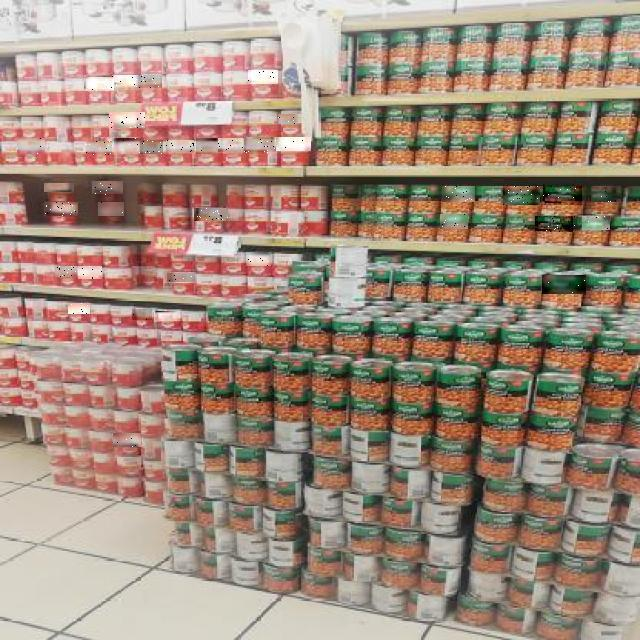Beans: (542, 275, 586, 294), (543, 186, 582, 205), (503, 186, 540, 205), (536, 216, 576, 232), (109, 112, 145, 128), (442, 186, 475, 202), (244, 138, 276, 154), (275, 137, 311, 151), (84, 75, 114, 91), (114, 138, 144, 154), (44, 202, 78, 216), (218, 139, 251, 153), (17, 138, 45, 154), (592, 186, 620, 202), (194, 208, 228, 221), (92, 182, 123, 196), (248, 70, 278, 84), (441, 214, 469, 229), (113, 433, 141, 447), (110, 76, 138, 90), (582, 216, 610, 230), (136, 76, 162, 90), (86, 142, 112, 156), (99, 202, 125, 216), (196, 138, 218, 154), (246, 252, 271, 266), (80, 360, 109, 372), (166, 140, 194, 152), (140, 140, 163, 154), (78, 266, 102, 279), (154, 310, 180, 322), (44, 183, 74, 192), (167, 273, 195, 282), (55, 266, 77, 277), (68, 303, 90, 314), (278, 114, 300, 124), (133, 309, 153, 320)
